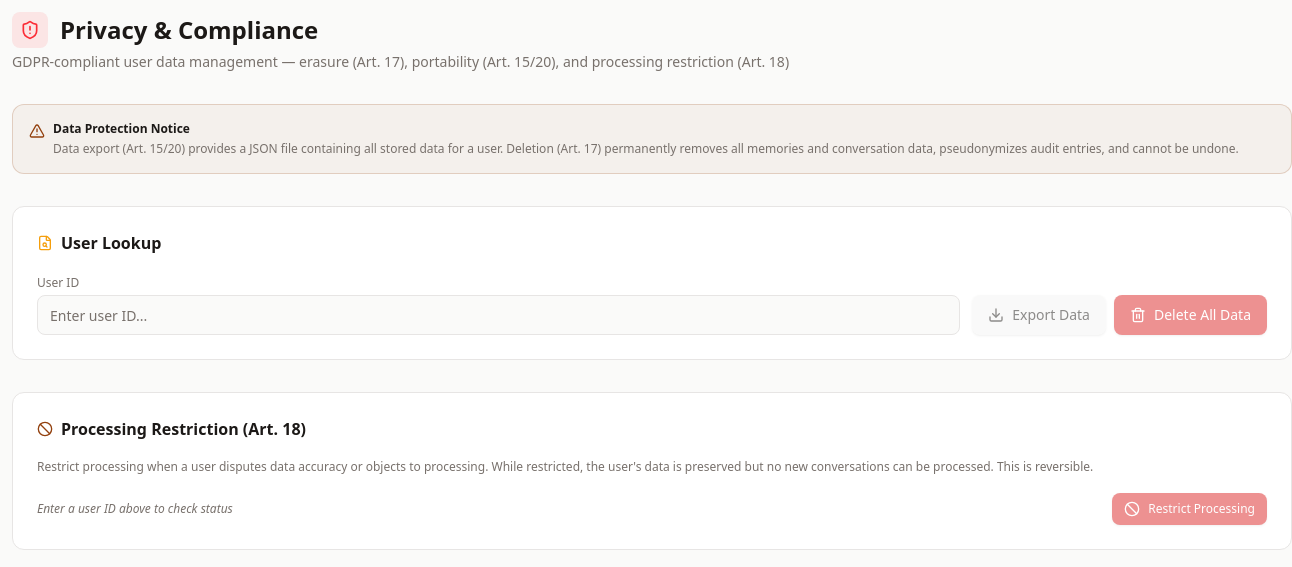
GDPR Privacy Admin Page › enables buttons when user ID is entered
Type "user-123" into the field with test id "gdpr-user-id".
click(499, 315); type("user-123")  # box 37,295 -> 960,335
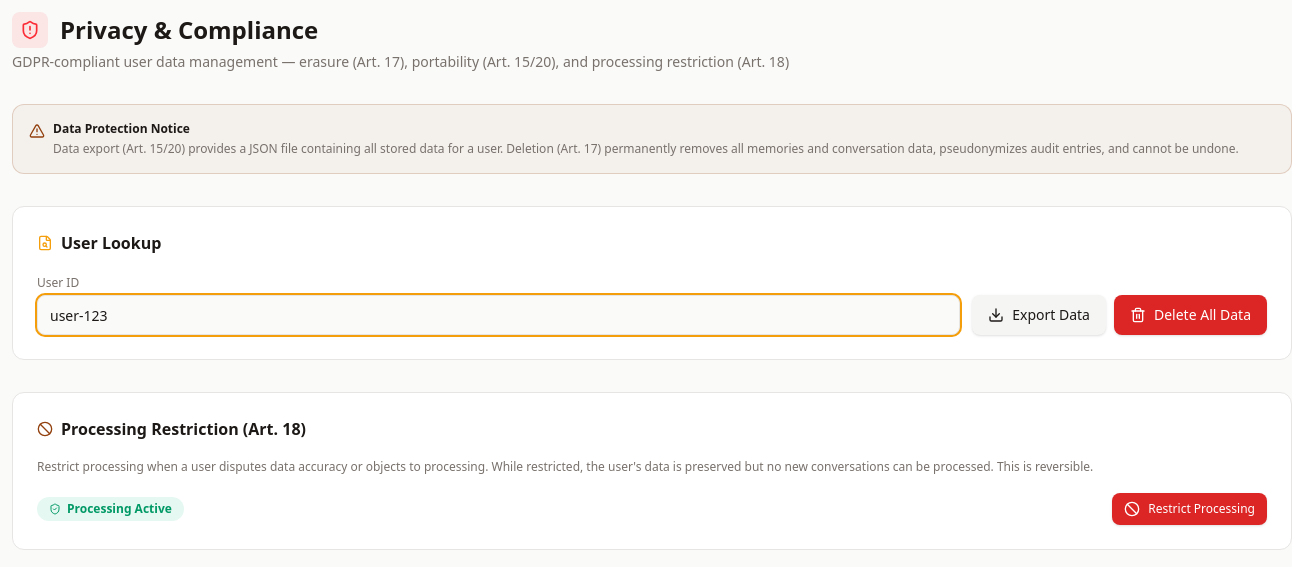
Result: the button with test id "gdpr-export-btn" is enabled at 972,295 -> 1106,335
Result: the button with test id "gdpr-delete-btn" is enabled at 1114,295 -> 1267,335
